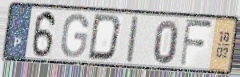0: (151, 17, 180, 66)
6: (31, 9, 58, 59)
D: (85, 13, 123, 63)
F: (178, 17, 214, 69)
G: (59, 13, 90, 60)
I: (125, 15, 140, 64)
